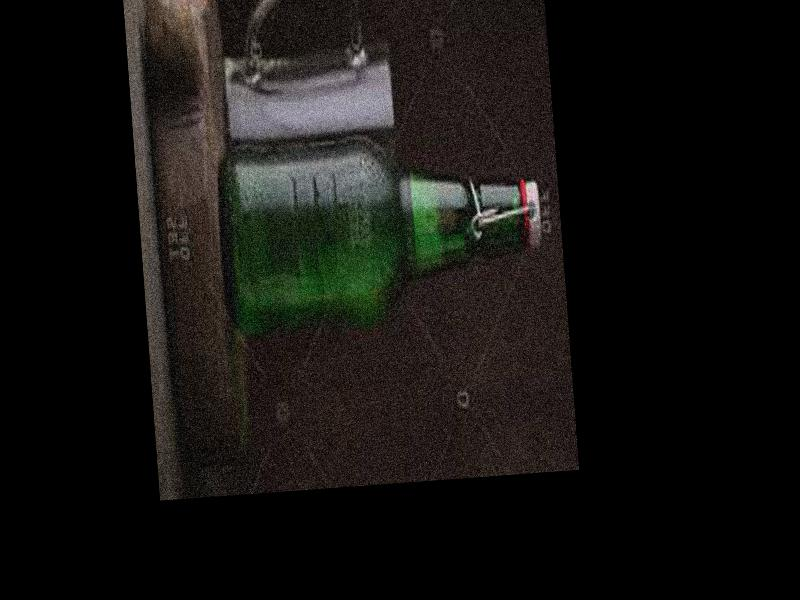Beer: (215, 129, 546, 329)
